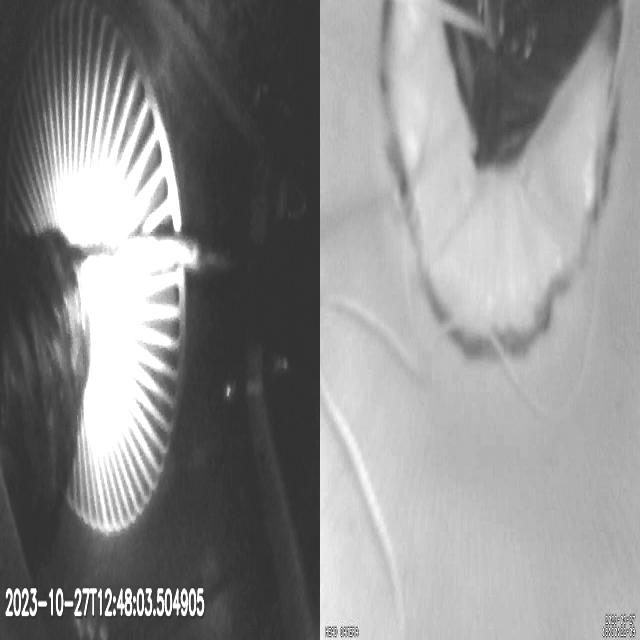red-circle: (377, 0, 624, 365)
